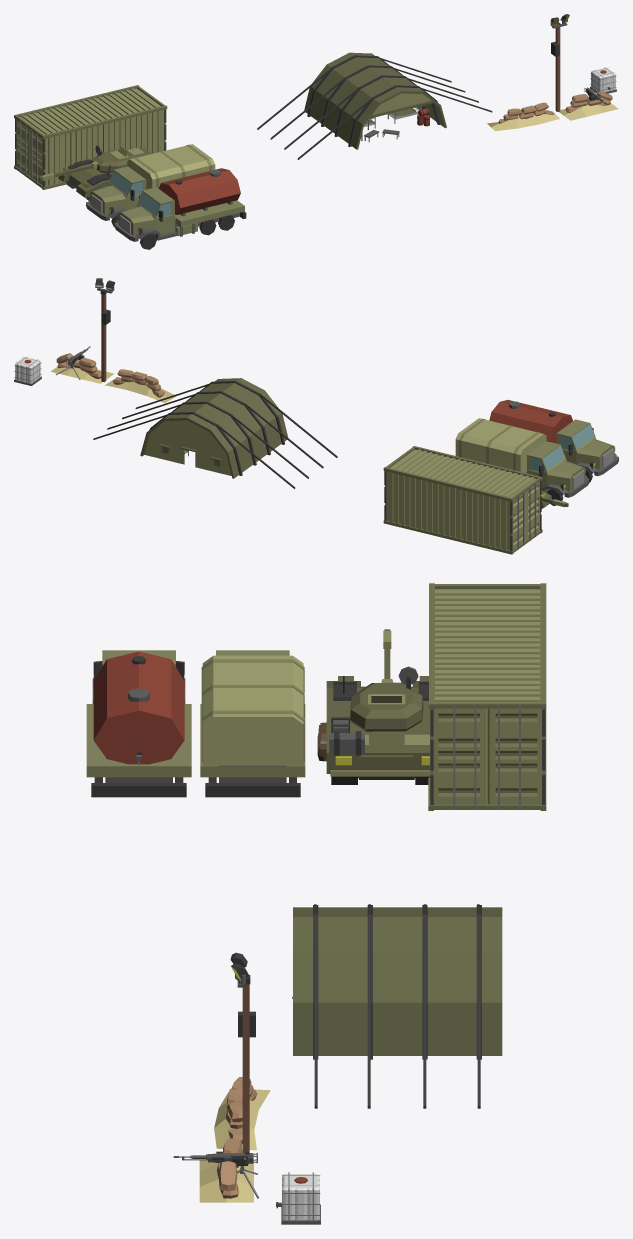
Rendered from props.glb.
3 views of the same model, one above another, from view 1: azimuth 30°, elevation 25°; view 2: azimuth 150°, elevation 25°; view 3: azimuth 270°, elevation 25° (orthographic). The views are drawn at different scales.
Parts seen in each view (by area): view 1: Conainer, Cylinder, Cube.000, Cube.004, Cube.002, Plane, Cube.013, Cube, Cube.011; view 2: Conainer, Cylinder, Cube.004, Cube.000, Plane, Cube.013, Cube, Cube.011; view 3: Cylinder, Conainer, Cube.004, Cube.000, Cube.002, Cube.013, Plane, Cube, Cube.011.
Part boxes in pixels (x1=…): Conainer: x1=14, y1=85, x2=167, y2=189; Cylinder: x1=257, y1=52, x2=492, y2=159; Cube.000: x1=114, y1=168, x2=246, y2=249; Cube.004: x1=86, y1=144, x2=215, y2=226; Cube.002: x1=39, y1=145, x2=152, y2=200; Plane: x1=487, y1=102, x2=559, y2=131; Cube.013: x1=559, y1=87, x2=618, y2=120; Cube: x1=550, y1=14, x2=569, y2=111; Cube.011: x1=590, y1=67, x2=616, y2=93; Conainer: x1=383, y1=446, x2=542, y2=554; Cylinder: x1=93, y1=378, x2=337, y2=488; Cube.004: x1=455, y1=418, x2=589, y2=505; Cube.000: x1=489, y1=400, x2=618, y2=482; Plane: x1=104, y1=369, x2=176, y2=403; Cube.013: x1=51, y1=346, x2=113, y2=383; Cube: x1=95, y1=278, x2=115, y2=382; Cube.011: x1=14, y1=356, x2=41, y2=385; Cylinder: x1=292, y1=904, x2=502, y2=1108; Conainer: x1=428, y1=583, x2=546, y2=810; Cube.004: x1=200, y1=650, x2=305, y2=797; Cube.000: x1=86, y1=650, x2=191, y2=797; Cube.002: x1=326, y1=629, x2=433, y2=784; Cube.013: x1=173, y1=1138, x2=259, y2=1202; Plane: x1=214, y1=1077, x2=270, y2=1150; Cube: x1=230, y1=952, x2=255, y2=1152; Cube.011: x1=276, y1=1172, x2=320, y2=1224.
Bounding box in the file's own units: 53.53 × 9.25 × 19.35.
